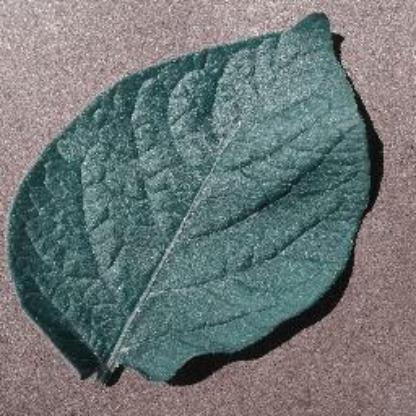Healthy-plant: (10, 11, 374, 387)
